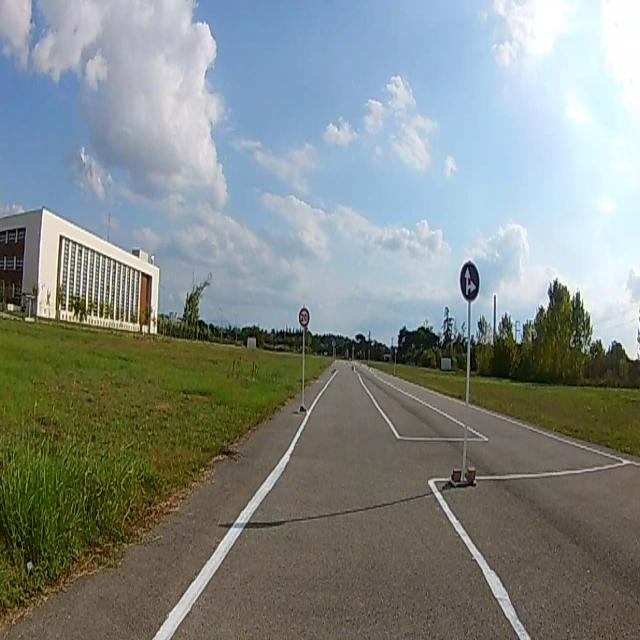20: (299, 309, 309, 327)
ilerisag: (460, 261, 480, 298)
